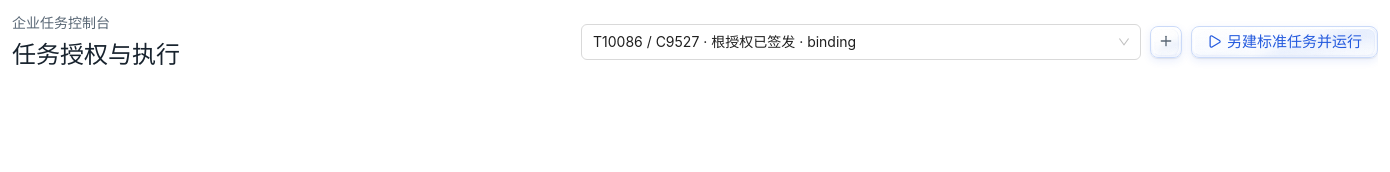
Scenario: TaskCenter › does not report a denied demo response as completed
What coordinates should you click on to do the following:
click the button "另建标准任务并运行"
I would click on:
 (1284, 42)
Its box is x1=1191 y1=26 x2=1378 y2=58.
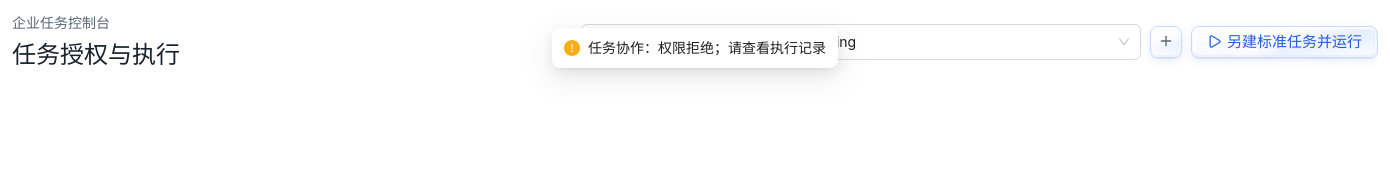
Result: the text "任务协作：权限拒绝；请查看执行记录" is shown at x1=588 y1=37 x2=826 y2=59
